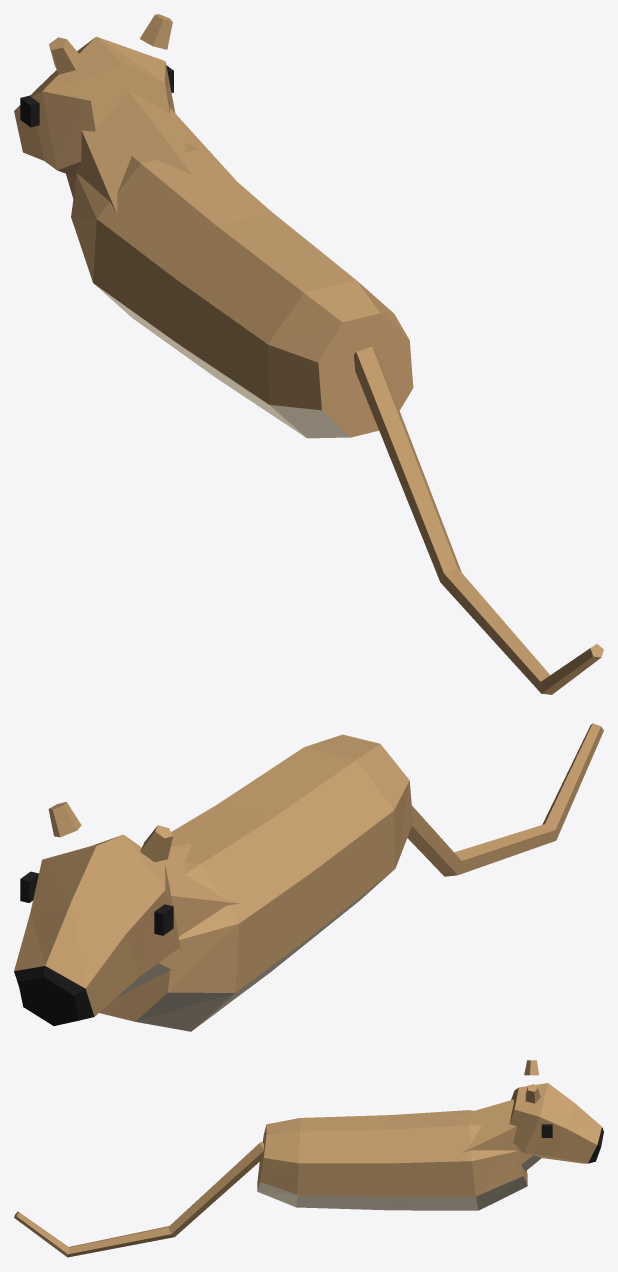
Rendered from animal_cougar.obj.
The picture shows the model from 3 angles, top to bottom: view 1: azimuth 30°, elevation 25°; view 2: azimuth 150°, elevation 25°; view 3: azimuth 270°, elevation 25°; orthographic projection. The views are drawn at different scales.
Visible parts, largest first — view 1: animal_cougar; view 2: animal_cougar; view 3: animal_cougar.
Part boxes in pixels (box(x1,y1,x2,y2)): animal_cougar: box(14, 14, 603, 694); animal_cougar: box(14, 723, 603, 1031); animal_cougar: box(14, 1060, 603, 1257).
Size of the model in its own units: 0.3122 by 0.7248 by 2.1.
